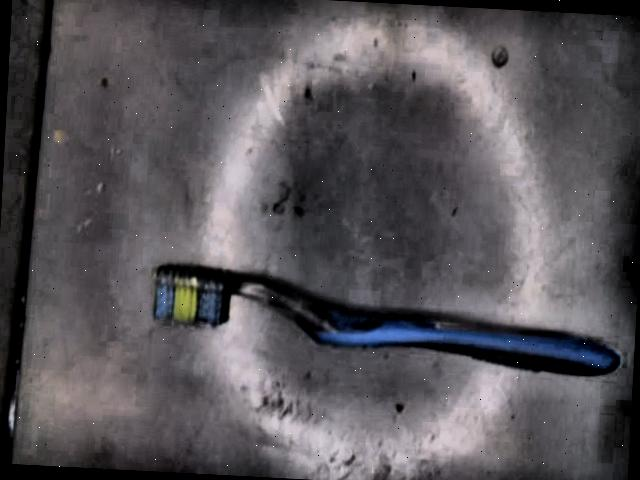Plastic: (153, 265, 615, 375)
